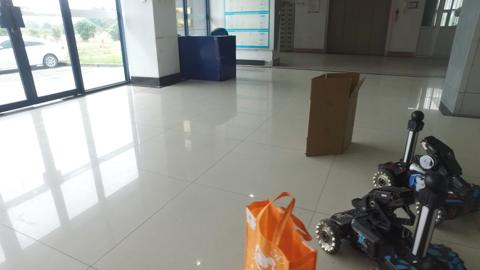bag: (245, 188, 320, 270)
box: (310, 68, 357, 159)
chariot: (314, 160, 475, 269), (370, 103, 474, 194)
